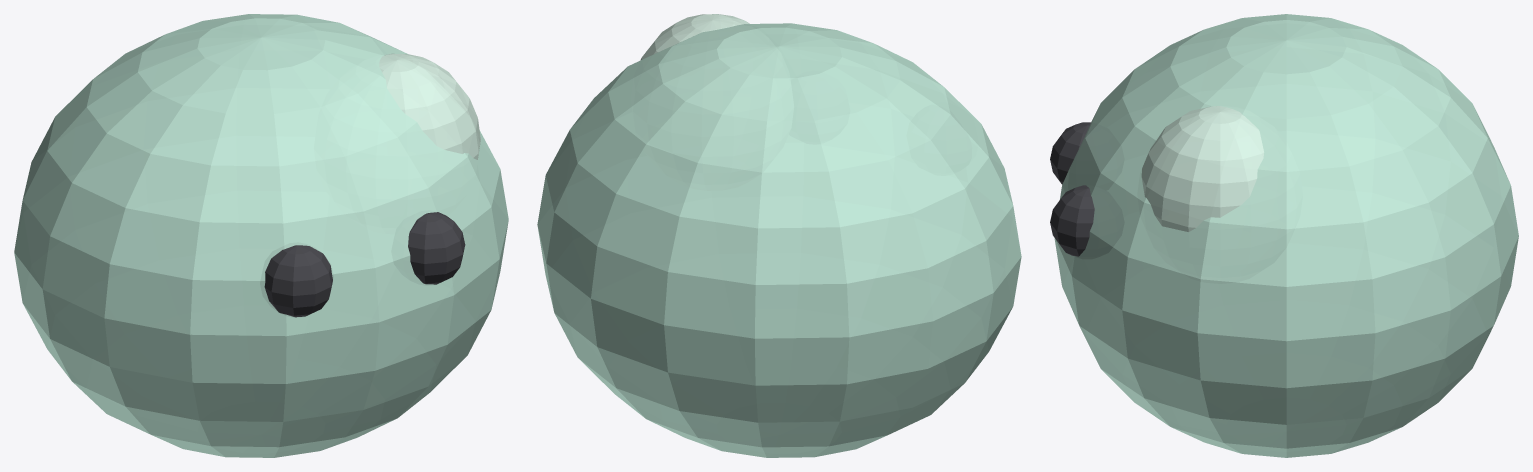
Rendered from mob-gloop_small.glb.
The picture shows the model from 3 angles, left to right: view 1: azimuth 30°, elevation 25°; view 2: azimuth 150°, elevation 25°; view 3: azimuth 270°, elevation 25°; orthographic projection. The views are drawn at different scales.
Visible parts, largest first — view 1: mob-gloop_small; view 2: mob-gloop_small; view 3: mob-gloop_small.
Boxes of the visible parts, <box> form: mob-gloop_small: <box>14,14,508,457</box>; mob-gloop_small: <box>537,14,1021,457</box>; mob-gloop_small: <box>1050,14,1518,457</box>.
Bounding box in the file's own units: 0.6 × 0.52 × 0.565.
